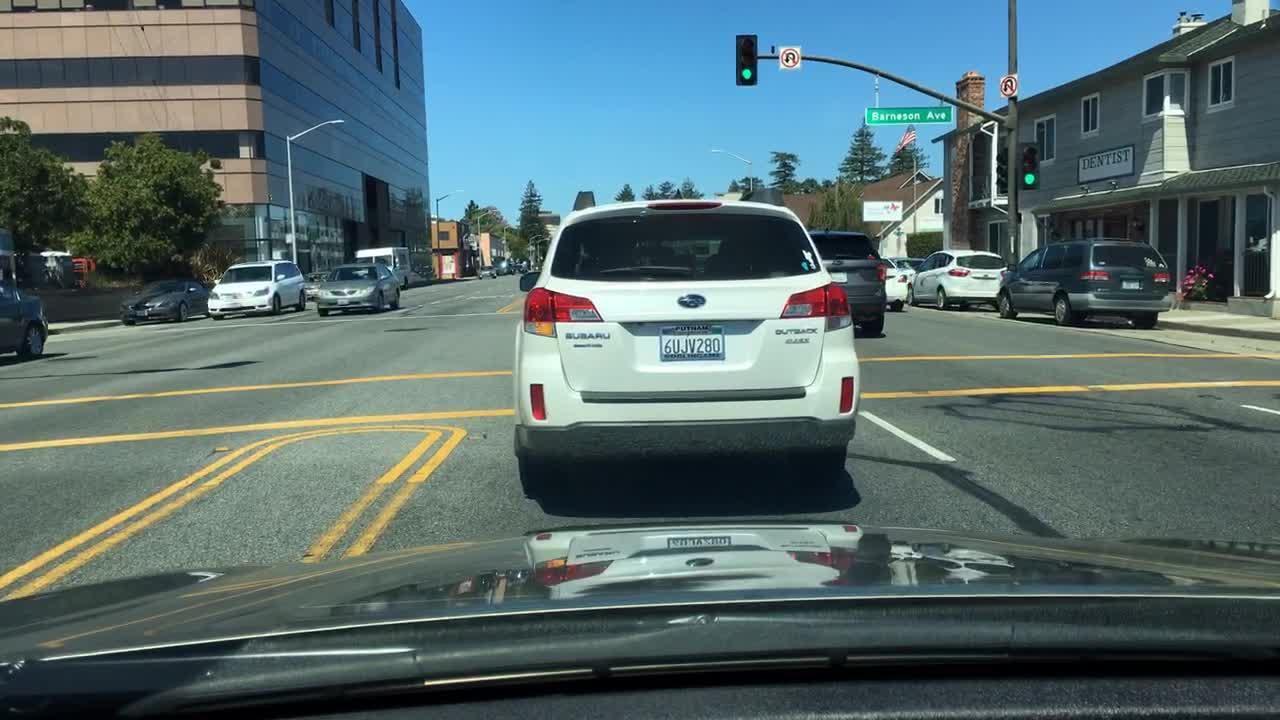car: (511, 185, 859, 498), (994, 233, 1171, 327), (806, 228, 886, 334), (204, 260, 305, 324), (906, 246, 1005, 309), (314, 260, 400, 317), (118, 280, 211, 327), (881, 256, 908, 310), (891, 253, 921, 285), (305, 270, 327, 299), (476, 263, 496, 282), (496, 260, 511, 277), (515, 256, 530, 270)
traffic light: (734, 30, 759, 86), (1019, 142, 1038, 185), (995, 145, 1009, 194)
traffic sign: (862, 103, 953, 125), (776, 44, 800, 67), (999, 74, 1016, 98)
truck: (0, 226, 50, 359), (352, 246, 413, 287)
